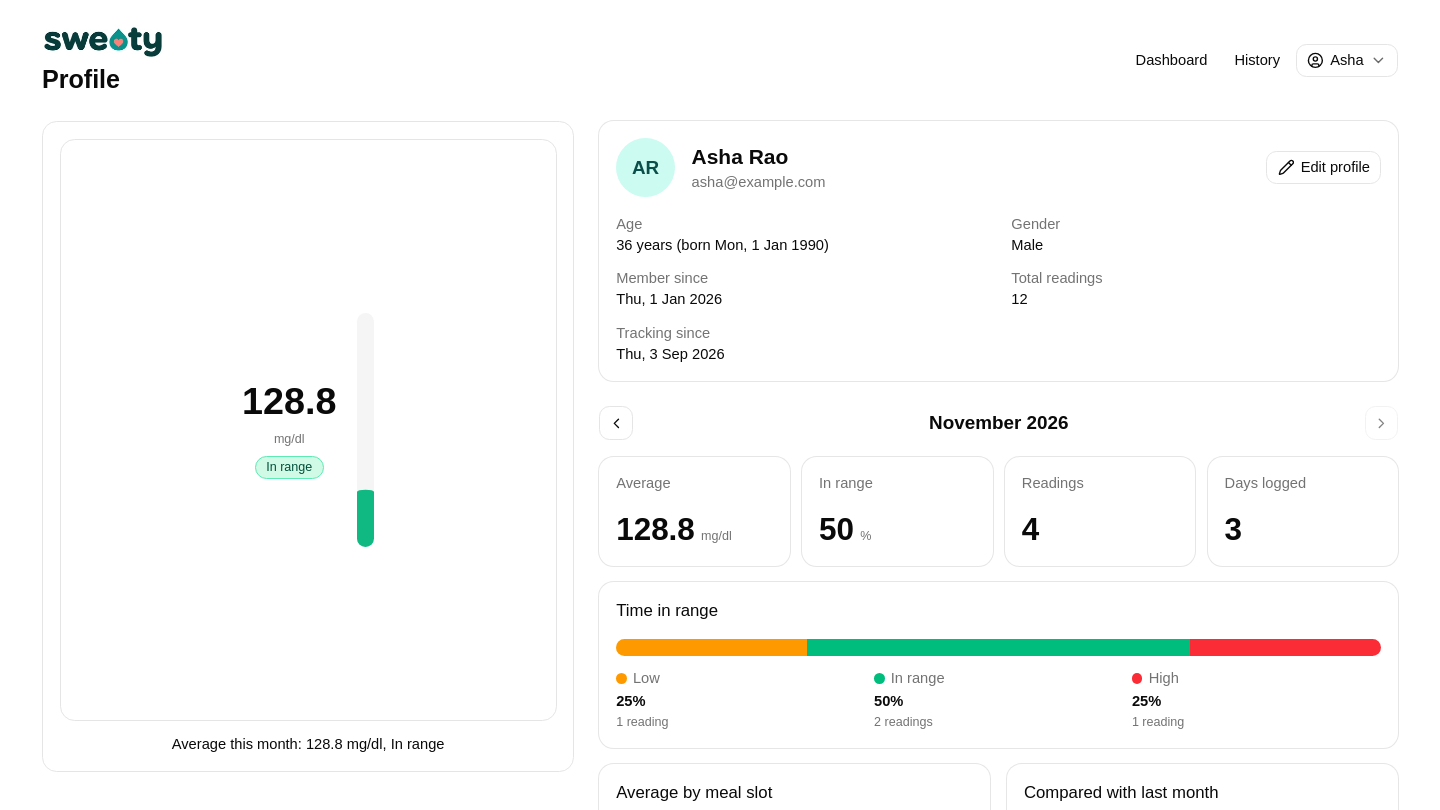
Test: editing the profile › starts with the current values and shows the live age
Click the button "Edit profile". click: (1324, 168)
box: [1266,151,1381,184]
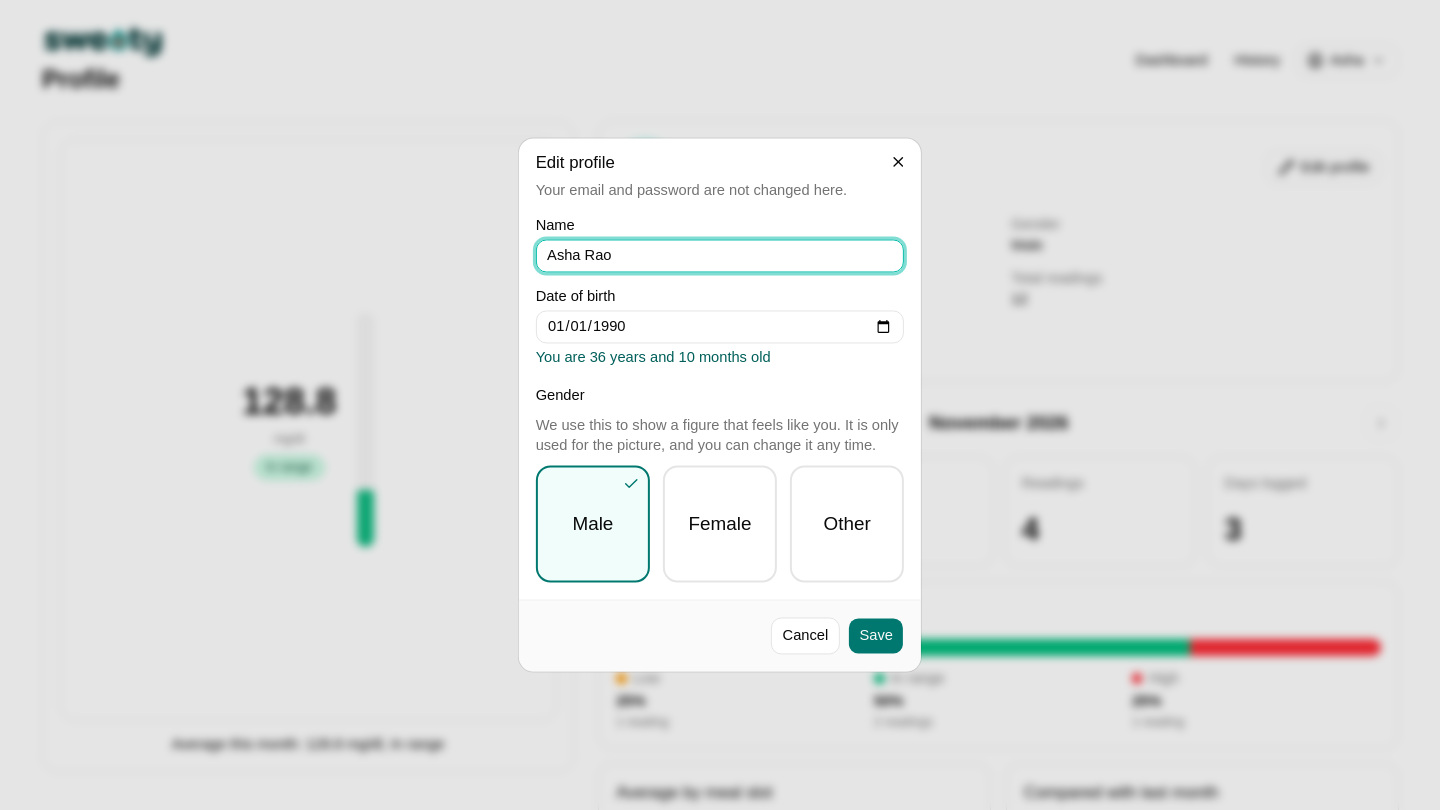
Now the field labelled "Name" holds "Asha Rao", box [536,239,904,272]
Now the date field labelled "Date of birth" holds "1990-01-01", box [536,310,904,344]
Now the radio button labelled "Male" is checked, box [536,465,650,583]
